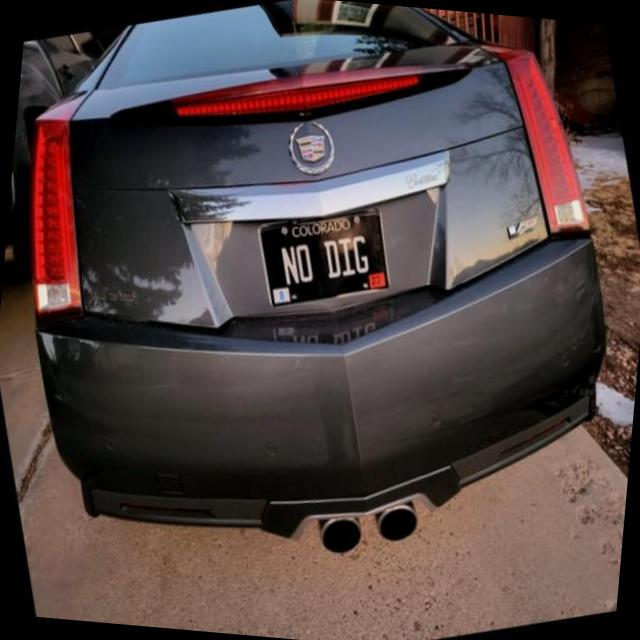LicensePlate: (255, 206, 390, 310)
